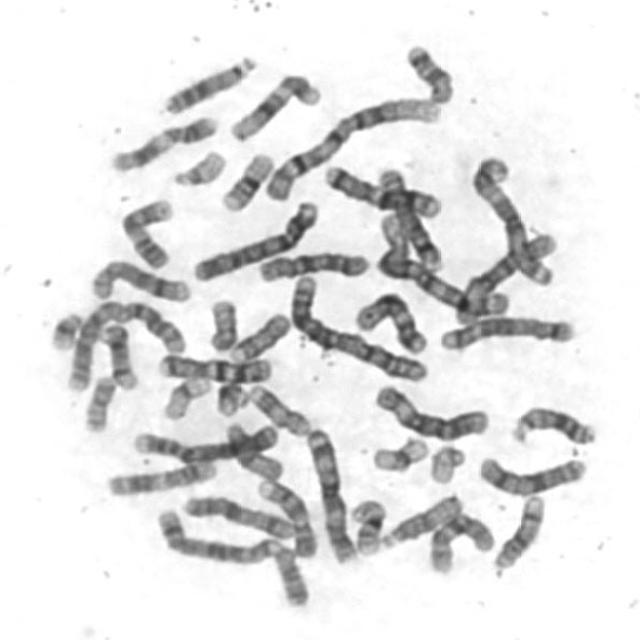A1: (255, 90, 444, 204), (370, 217, 512, 318)
A2: (284, 266, 432, 384), (58, 290, 190, 394)
A3: (464, 148, 559, 287), (298, 420, 358, 564)
B4: (186, 194, 321, 284), (125, 416, 281, 465)
B5: (152, 507, 284, 570), (434, 310, 580, 354)
C10: (422, 506, 498, 578), (252, 244, 373, 284)
C11: (102, 106, 222, 174), (100, 453, 220, 498)
C12: (224, 65, 324, 144), (348, 284, 431, 356)
C6: (450, 226, 558, 327), (367, 378, 492, 443)
C7: (318, 157, 444, 219), (152, 347, 274, 384)
C8: (371, 160, 445, 272), (82, 253, 193, 304)
C9: (251, 471, 319, 560), (114, 191, 178, 271)
D13: (157, 47, 259, 116), (504, 398, 599, 448)
D14: (488, 488, 548, 573), (92, 314, 142, 392)
D15: (374, 487, 466, 552), (218, 415, 286, 484)
E16: (214, 146, 277, 213), (344, 493, 388, 557)
E17: (242, 377, 313, 438), (262, 546, 314, 614)
E18: (398, 36, 457, 106), (224, 306, 293, 364)
F19: (156, 370, 214, 422), (364, 430, 432, 474)
F20: (76, 368, 118, 434), (201, 292, 241, 353)
G21: (41, 303, 87, 353), (208, 376, 250, 419)
G22: (166, 143, 228, 189), (423, 439, 468, 486)
X: (176, 488, 298, 540), (470, 448, 590, 497)
